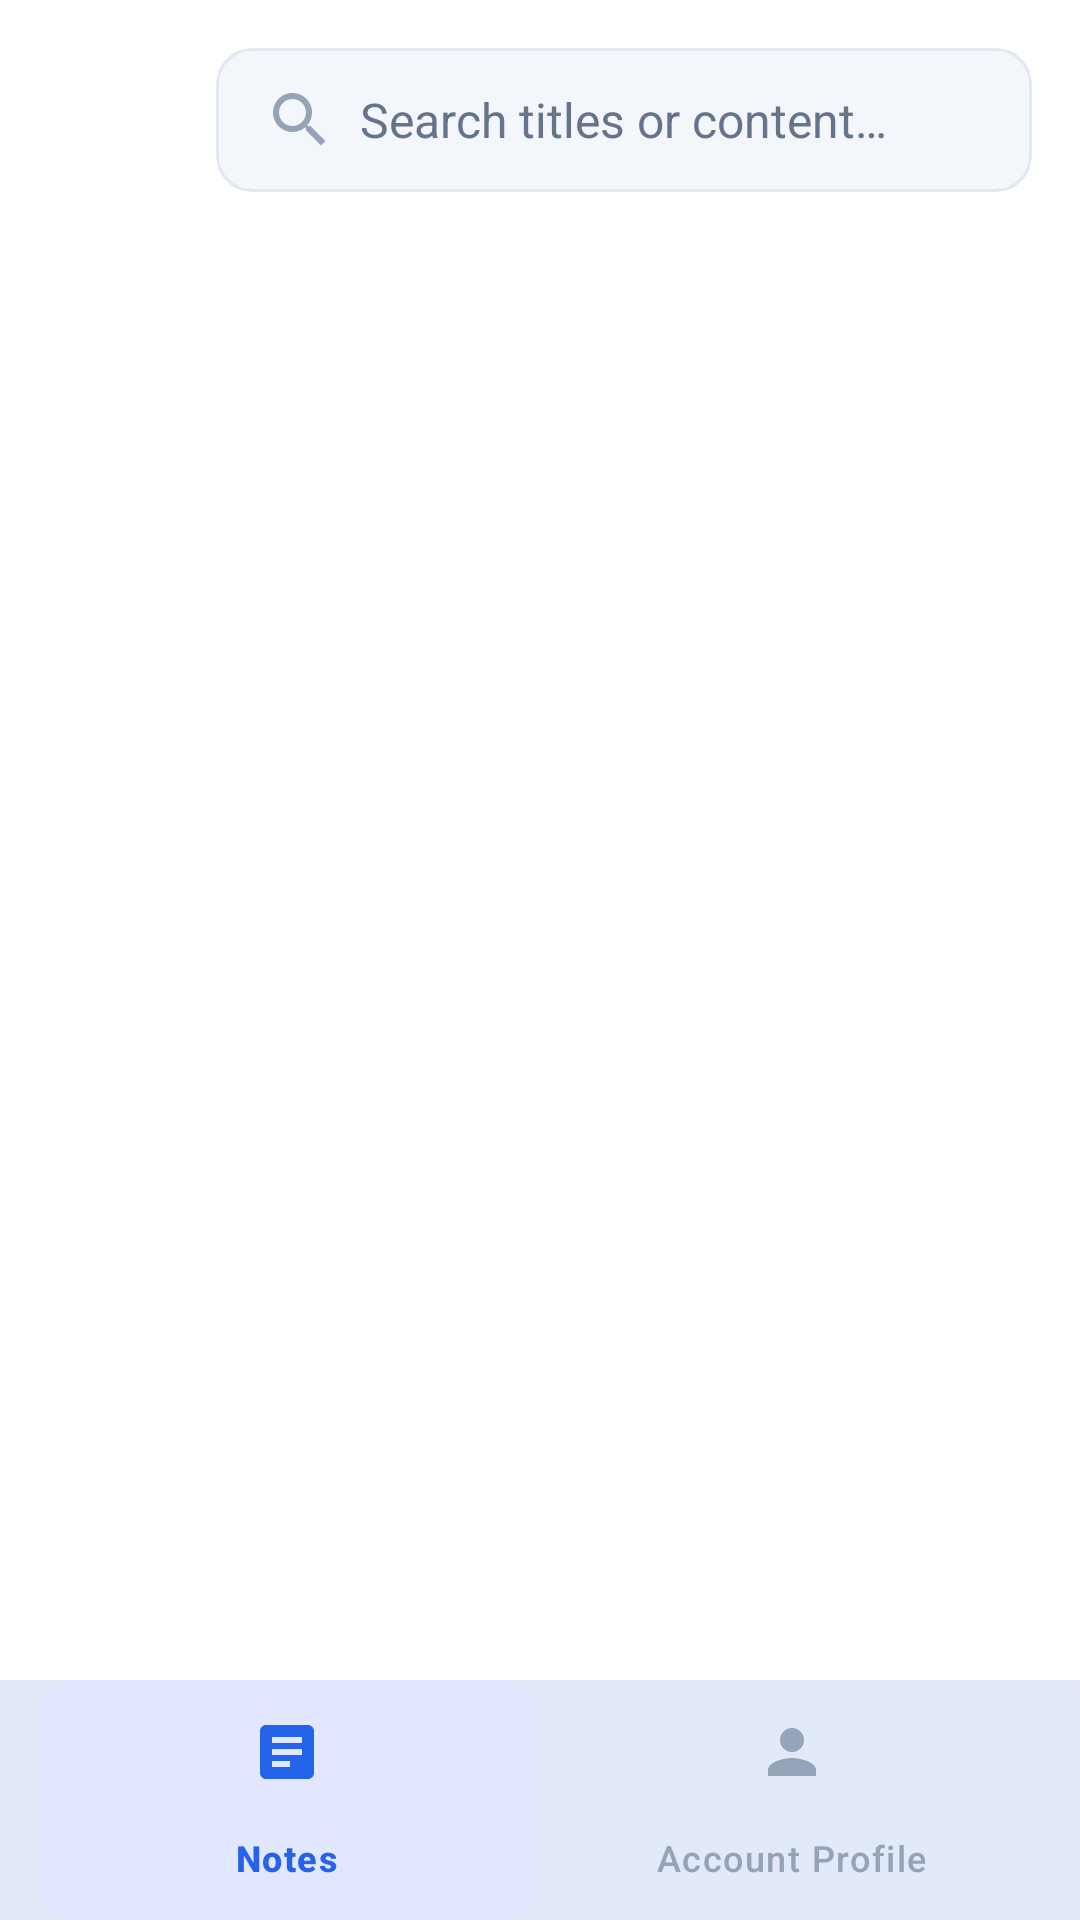

Locate icon controls on the screen. Image size 1080×1920, boxes as (x1, y1, x2, y2).
Search notes…: (273, 93, 325, 145)
